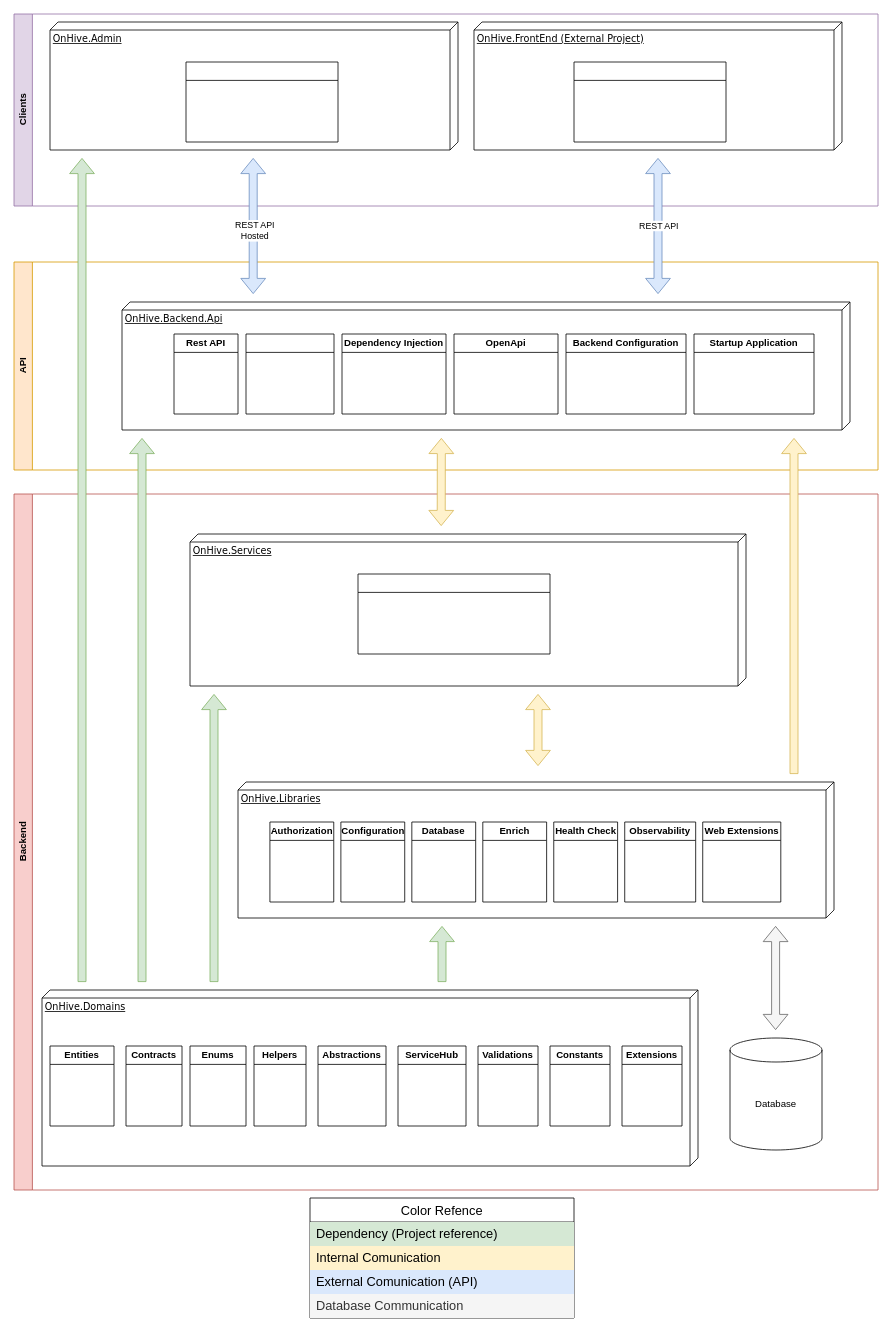
This 892x1332 diagram has some shape labels left out. The centre of each missing label's shape, as x and y in pixels:
Access Control: the point at 289,373
Administrative FrontEnd: the point at 261,101
Backend Service Modules: the point at 453,613
LMS FrontEnd: the point at 649,101
